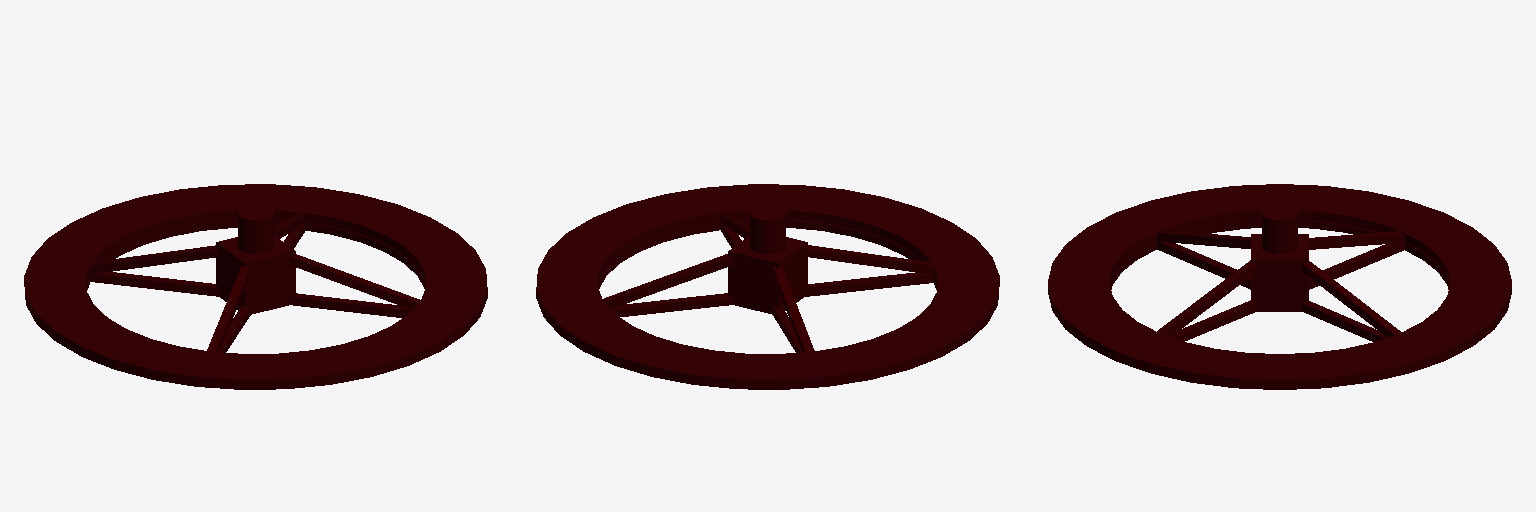
Rendered from base_foguete.obj.
The picture shows the model from 3 angles: view 1: azimuth 30°, elevation 25°; view 2: azimuth 150°, elevation 25°; view 3: azimuth 270°, elevation 25°; orthographic projection.
Parts seen in each view (by area): view 1: Kiddie-Jet-Base.001; view 2: Kiddie-Jet-Base.001; view 3: Kiddie-Jet-Base.001.
Part boxes in pixels (x1,y1,x2,y2): Kiddie-Jet-Base.001: (24, 184, 487, 389); Kiddie-Jet-Base.001: (536, 184, 999, 389); Kiddie-Jet-Base.001: (1048, 184, 1511, 389).
Size of the model in its own units: 99.46 by 20.52 by 99.46.